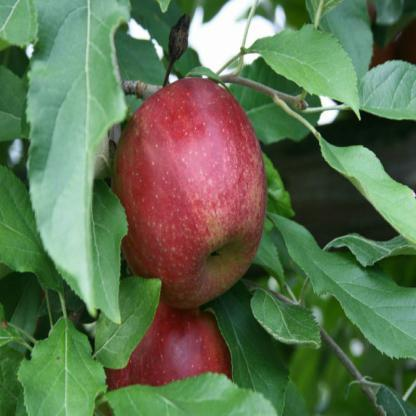Apple leaf: (23, 1, 130, 324), (241, 20, 368, 121), (316, 124, 416, 242), (17, 316, 116, 416), (250, 278, 325, 362), (354, 59, 416, 123)
